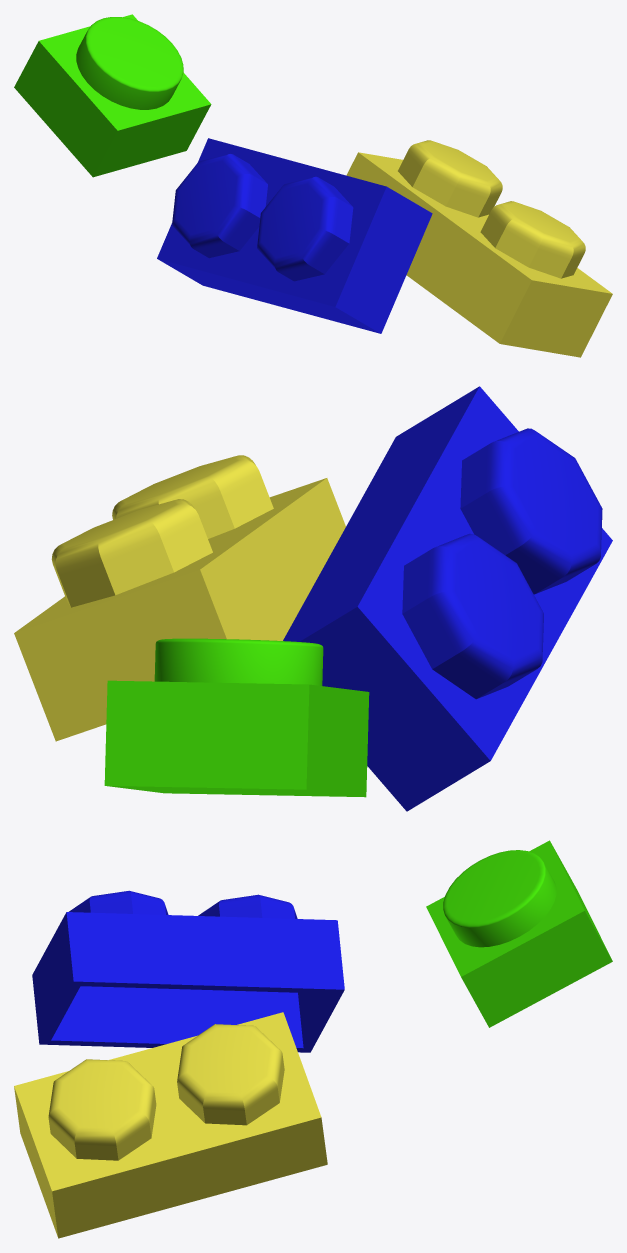
3 views of the same model, one above another, from view 1: azimuth 30°, elevation 25°; view 2: azimuth 150°, elevation 25°; view 3: azimuth 270°, elevation 25° (orthographic). The views are drawn at different scales.
Visible parts, largest first — view 1: 平面.001, 平面, 乐高基础版模型; view 2: 平面.001, 平面, 乐高基础版模型; view 3: 平面, 平面.001, 乐高基础版模型.
Boxes of the visible parts, x1=… form: 平面.001: x1=157, y1=138, x2=432, y2=333; 平面: x1=346, y1=140, x2=612, y2=357; 乐高基础版模型: x1=14, y1=14, x2=211, y2=177; 平面.001: x1=283, y1=386, x2=612, y2=811; 平面: x1=14, y1=455, x2=345, y2=741; 乐高基础版模型: x1=104, y1=638, x2=369, y2=797; 平面: x1=14, y1=1012, x2=327, y2=1238; 平面.001: x1=32, y1=890, x2=344, y2=1052; 乐高基础版模型: x1=426, y1=840, x2=612, y2=1027.
Size of what is drawn, in the model's own units: 6.14 by 3.9 by 8.53.
